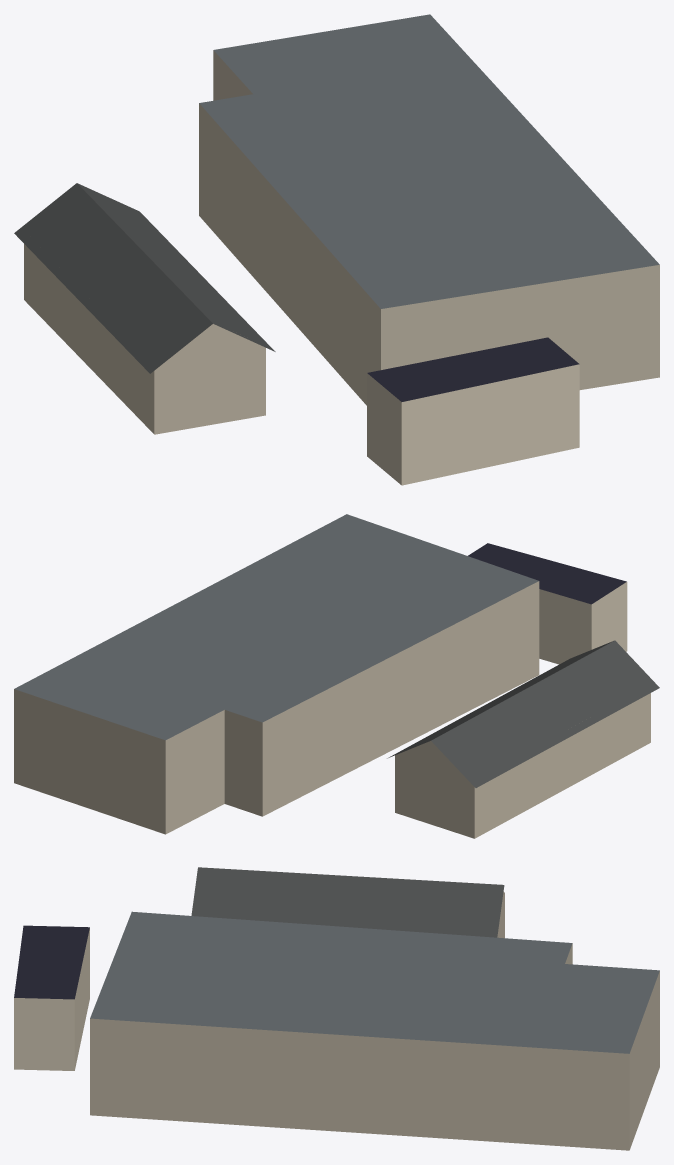
3 views of the same model, one above another, from view 1: azimuth 30°, elevation 25°; view 2: azimuth 150°, elevation 25°; view 3: azimuth 270°, elevation 25° (orthographic). The views are drawn at different scales.
Parts seen in each view (by area): view 1: tuile; view 2: tuile; view 3: tuile.
Part boxes in pixels (<box>): tuile: <box>14,14,659,485</box>; tuile: <box>14,514,659,838</box>; tuile: <box>14,867,659,1150</box>.
Bounding box in the file's own units: 27.5 × 5.99 × 34.
